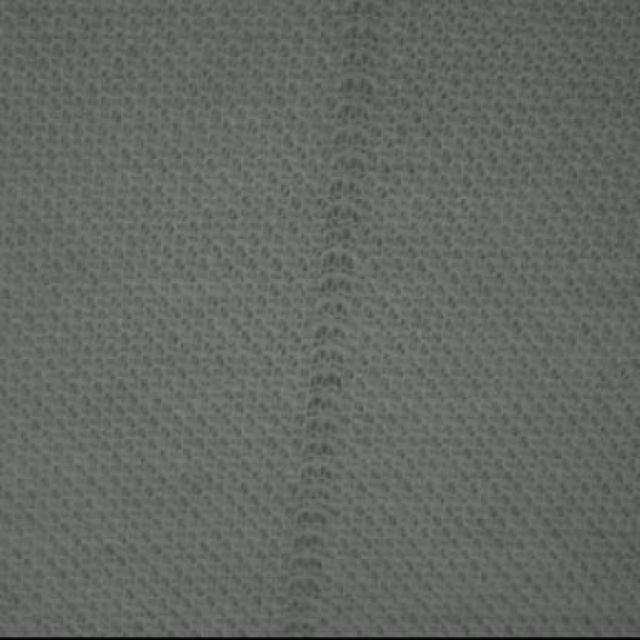Line: (282, 1, 383, 637)
